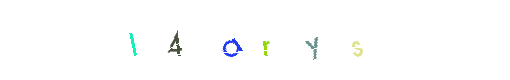4: (136, 0, 216, 80)
A: (192, 0, 272, 80)
L: (93, 0, 173, 80)
R: (215, 0, 295, 80)
S: (262, 0, 342, 80)
Y: (225, 0, 305, 80)
